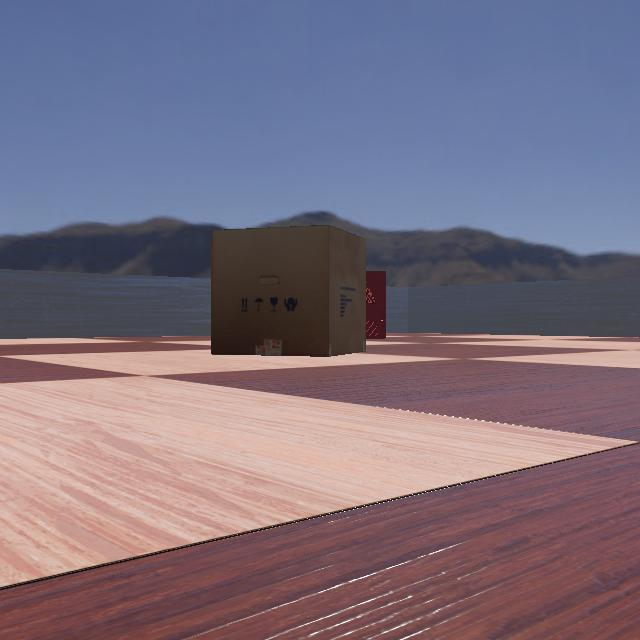cardboard-box: (204, 224, 373, 356)
